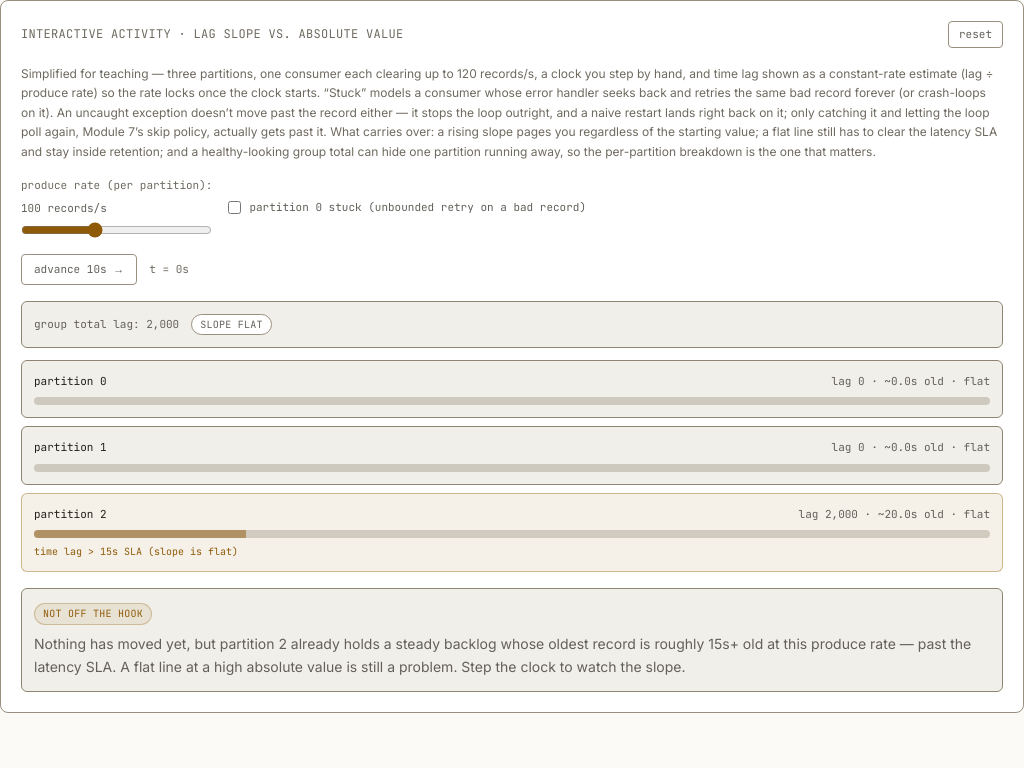
it: LagSlopeVsAbsolute › stuck + over-ceiling is two problems with two different slopes, not one uniform slope
This screenshot has width=1024, height=768.
Set the slider named "produce rate per partition" to "160" at (161,230), box x1=21 y1=222 x2=212 y2=238
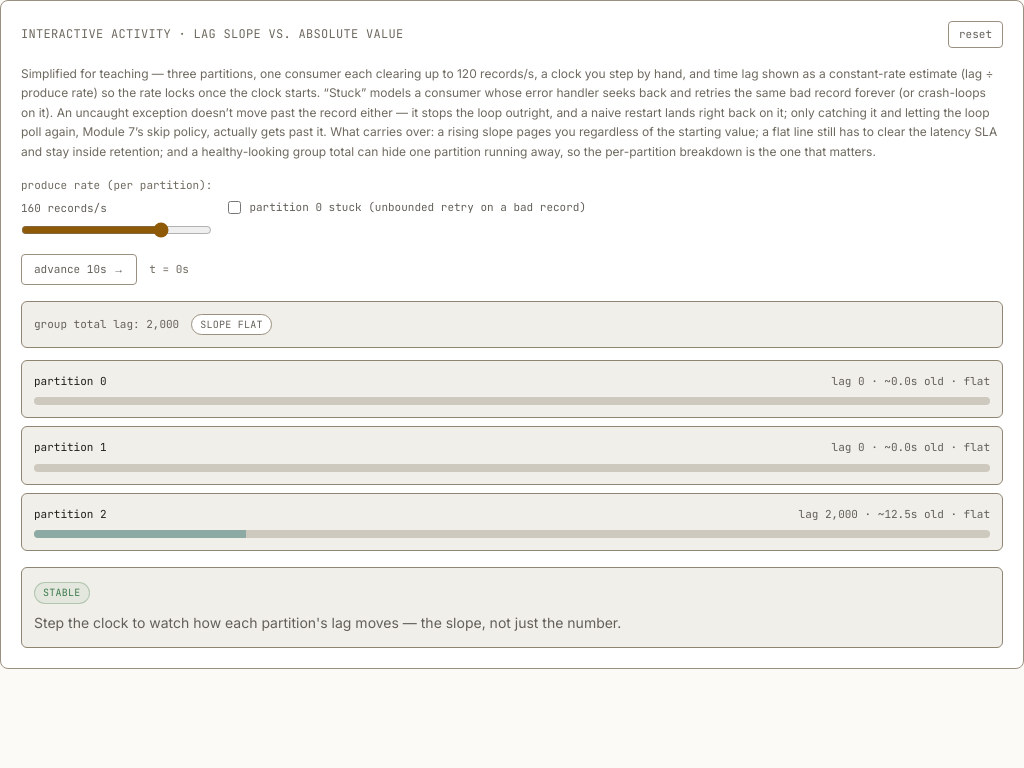
Click the checkbox named "partition 0 stuck retrying a bad record" at (235,208), box x1=228 y1=201 x2=241 y2=214
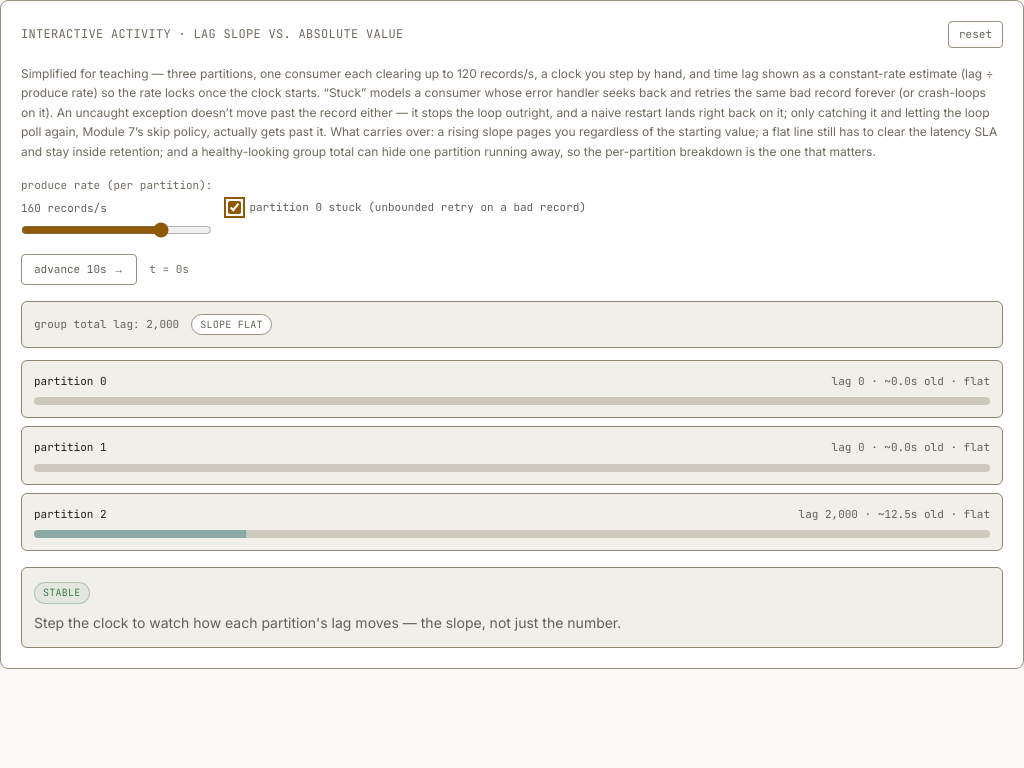
Click the button "advance 10s →" at (79,269), box x1=21 y1=254 x2=137 y2=284
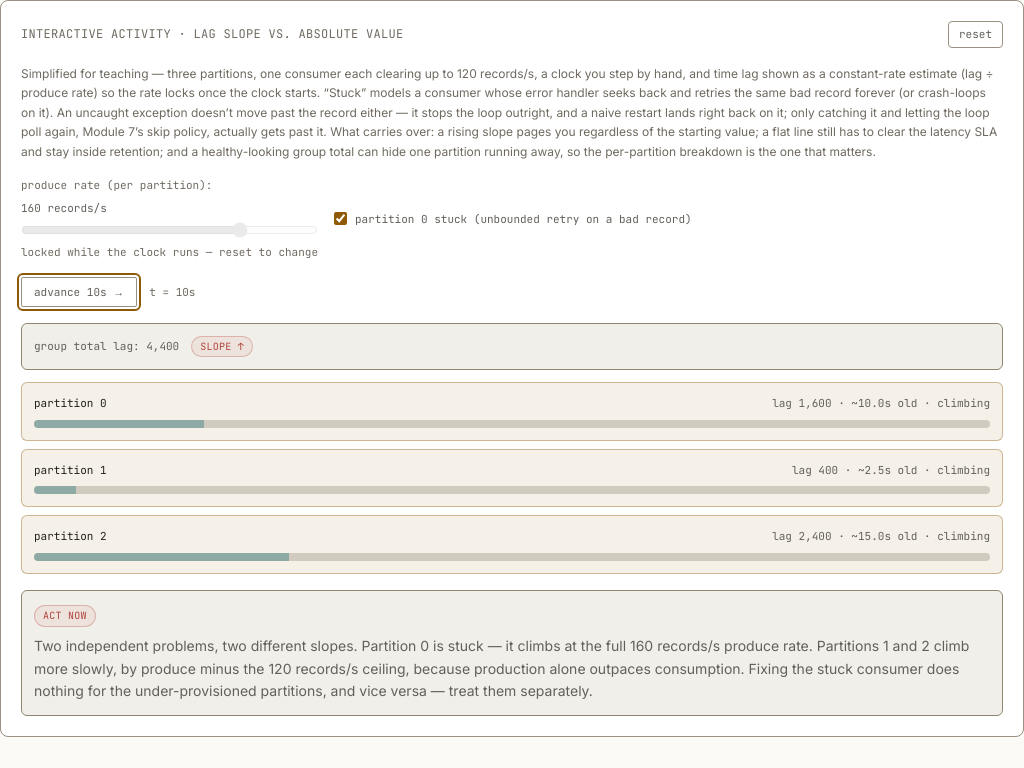
Check: the text "lag 1,600 · ~10.0s old · climbing" is shown, box x1=772 y1=395 x2=990 y2=412
Check: the text "lag 400 · ~2.5s old · climbing" is shown, box x1=792 y1=462 x2=990 y2=478
Check: the text with test id "lag-verdict" shows "Two independent problems, two different slopes", box x1=34 y1=637 x2=969 y2=699
